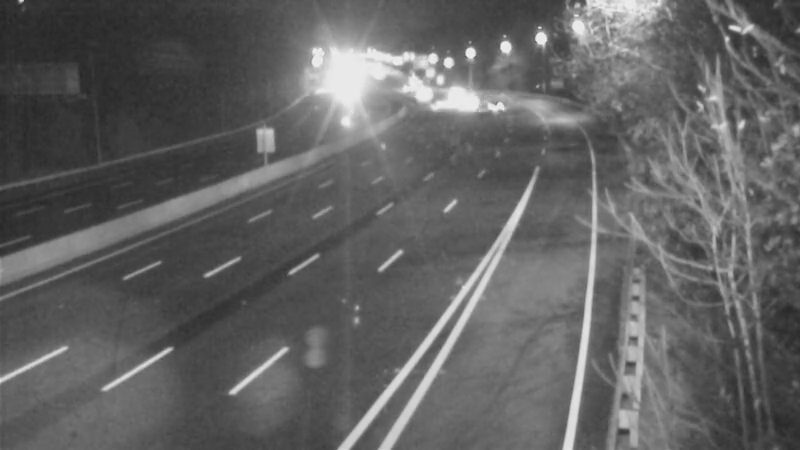vehicle: (398, 67, 448, 117), (430, 65, 480, 115), (435, 74, 485, 124), (413, 76, 463, 126), (450, 83, 500, 133), (470, 79, 520, 129)
